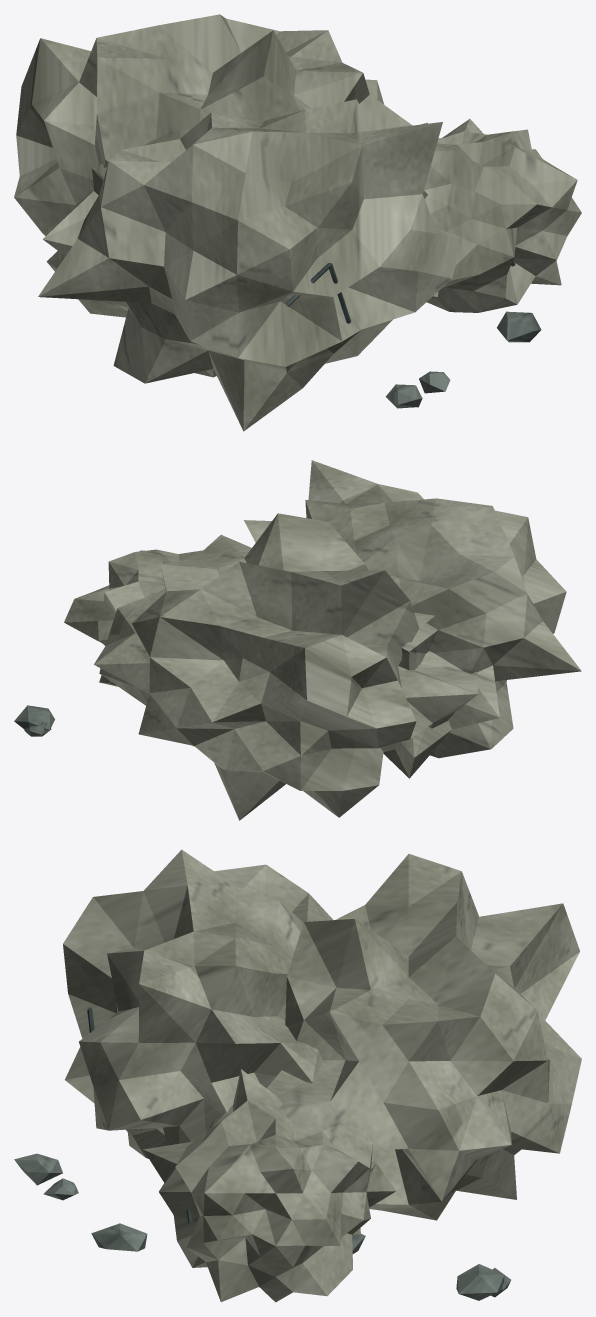
The model's file is 0008_boulder_08.glb.
The picture shows the model from 3 angles, top to bottom: view 1: azimuth 30°, elevation 25°; view 2: azimuth 150°, elevation 25°; view 3: azimuth 270°, elevation 25°; orthographic projection. The views are drawn at different scales.
Parts seen in each view (by area): view 1: stone_light, stone; view 2: stone_light, stone; view 3: stone_light, stone.
Part boxes in pixels (<box>): stone_light: <box>14,14,581,431</box>; stone: <box>385,311,541,408</box>; stone_light: <box>64,460,581,820</box>; stone: <box>14,705,54,736</box>; stone_light: <box>63,849,581,1302</box>; stone: <box>14,1153,510,1300</box>.
Bounding box in the file's own units: 3.37 × 1.7 × 2.94.
3 materials, 3 textured.
